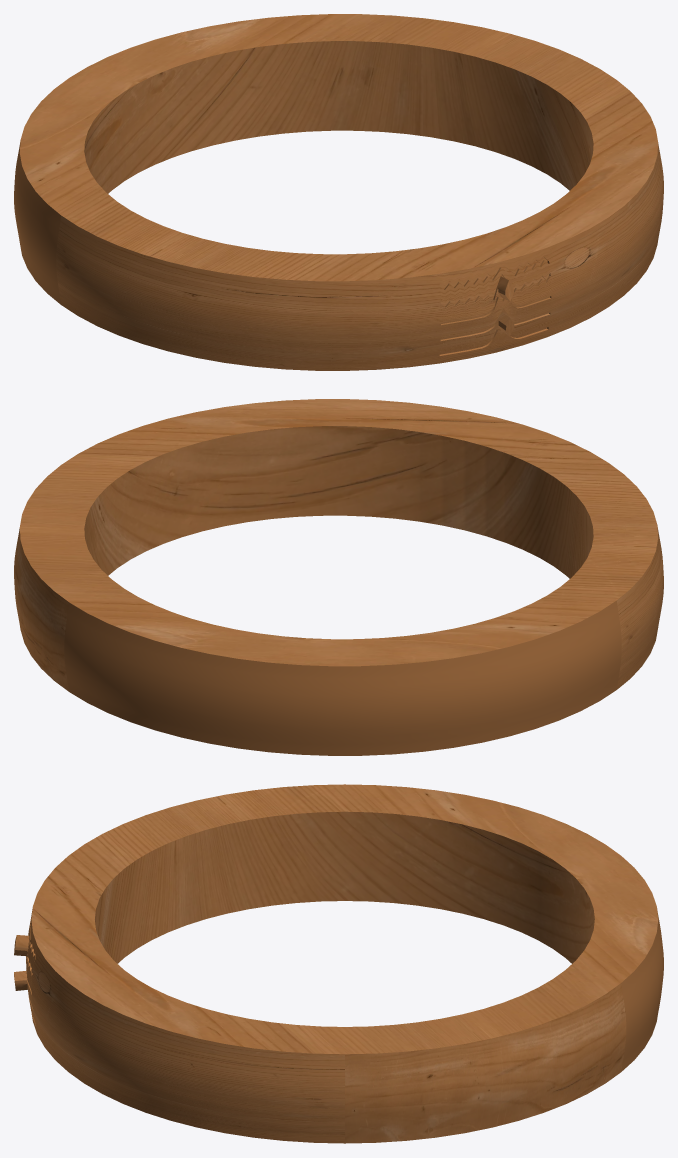
The picture shows the model from 3 angles, top to bottom: view 1: azimuth 30°, elevation 25°; view 2: azimuth 150°, elevation 25°; view 3: azimuth 270°, elevation 25°; orthographic projection.
Visible parts, largest first — view 1: Ring; view 2: Ring; view 3: Ring.
Boxes of the visible parts, x1,y1,x2,y2 form: Ring: (14,14,663,370); Ring: (14,399,663,755); Ring: (14,784,663,1143).
Size of the model in its own units: 0.0198 by 0.003 by 0.0198.
Materials: 1 (1 with a texture image).
